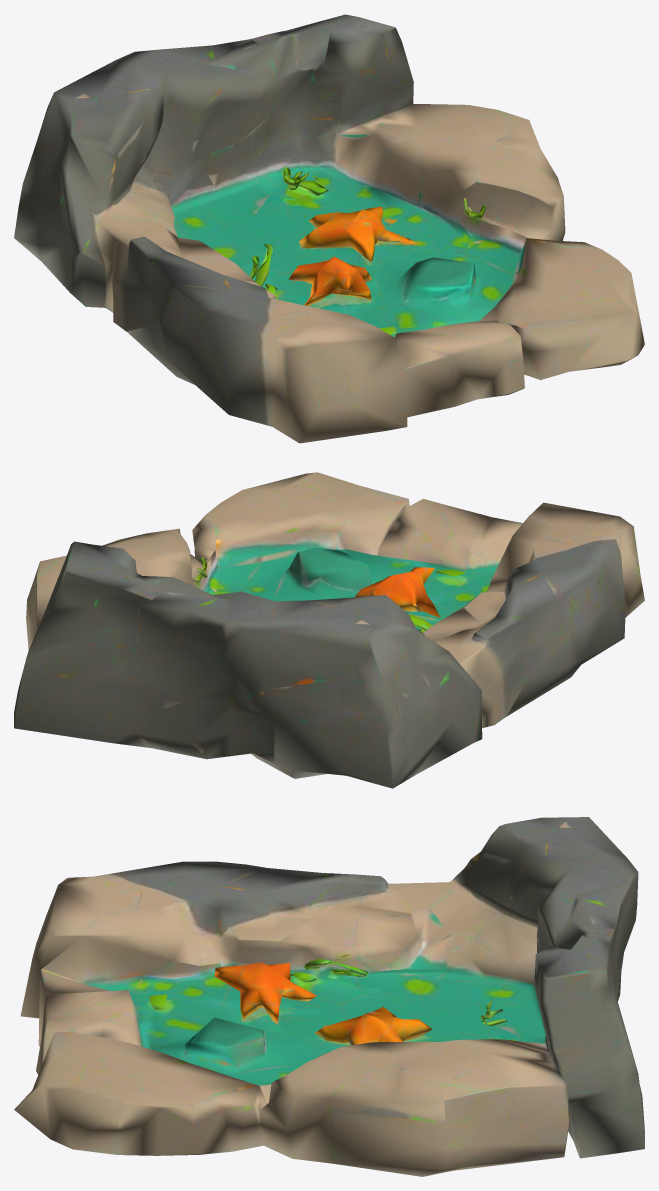
The model's file is tide_pool.glb.
The picture shows the model from 3 angles, top to bottom: view 1: azimuth 30°, elevation 25°; view 2: azimuth 150°, elevation 25°; view 3: azimuth 270°, elevation 25°; orthographic projection. The views are drawn at different scales.
Visible parts, largest first — view 1: 0; view 2: 0; view 3: 0.
Part boxes in pixels (x1=…): 0: x1=14, y1=14, x2=644, y2=443; 0: x1=14, y1=472, x2=644, y2=788; 0: x1=14, y1=817, x2=644, y2=1176.
Size of the model in its own units: 1.71 by 0.5557 by 1.9.
Materials: 1 (1 with a texture image).
